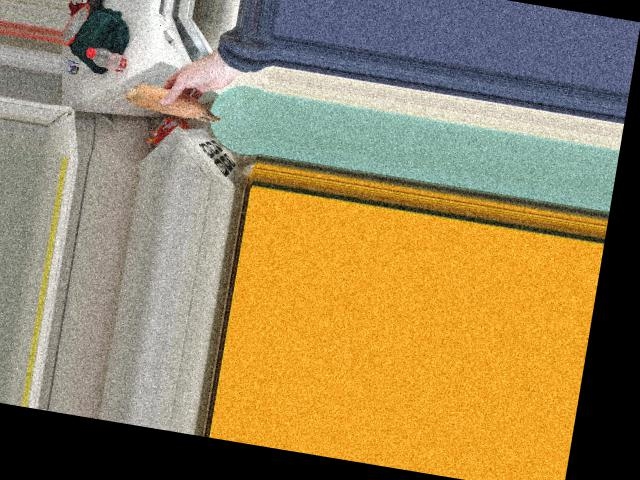sweet_potato: (120, 74, 226, 125)
